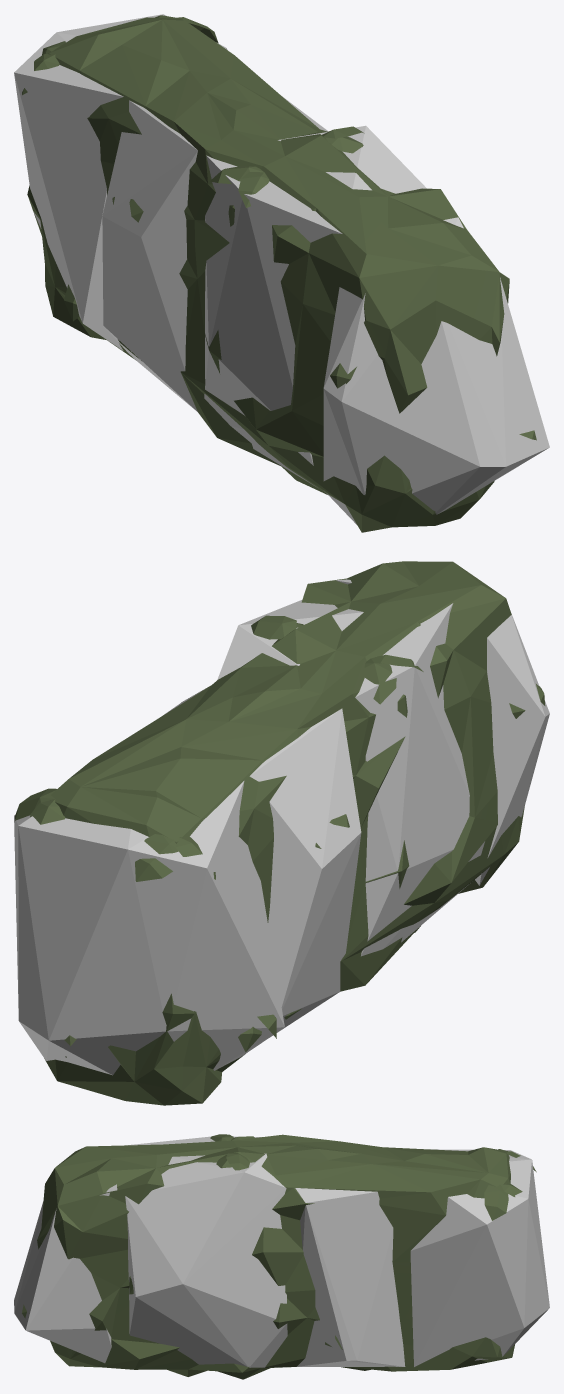
Rendered from SM_Env_Hedge_Bush_03.fbx.
The picture shows the model from 3 angles, top to bottom: view 1: azimuth 30°, elevation 25°; view 2: azimuth 150°, elevation 25°; view 3: azimuth 270°, elevation 25°; orthographic projection. The views are drawn at different scales.
Parts seen in each view (by area): view 1: SM_Env_Hedge_Bush_03_ConvexHulls, SM_Env_Hedge_Bush_03; view 2: SM_Env_Hedge_Bush_03_ConvexHulls, SM_Env_Hedge_Bush_03; view 3: SM_Env_Hedge_Bush_03_ConvexHulls, SM_Env_Hedge_Bush_03.
Boxes of the visible parts, bbox=[...] form: SM_Env_Hedge_Bush_03_ConvexHulls: bbox=[14, 14, 549, 525]; SM_Env_Hedge_Bush_03: bbox=[22, 15, 536, 532]; SM_Env_Hedge_Bush_03_ConvexHulls: bbox=[14, 579, 549, 1075]; SM_Env_Hedge_Bush_03: bbox=[15, 561, 545, 1105]; SM_Env_Hedge_Bush_03_ConvexHulls: bbox=[14, 1136, 549, 1367]; SM_Env_Hedge_Bush_03: bbox=[22, 1134, 536, 1379].
Bounding box in the file's own units: 106 × 321 × 143.
Materials: 2 (1 with a texture image).
